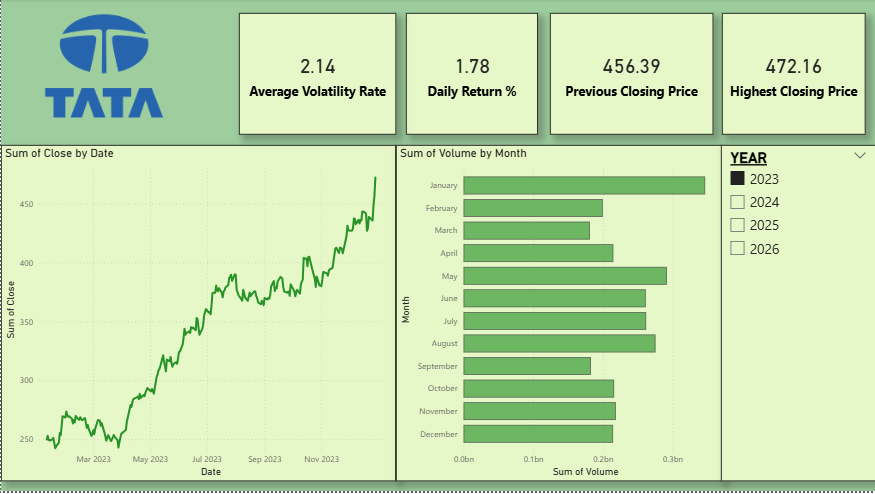

The page's visual inventory and layout, read from the dashboard file:
{"tool":"powerbi","page":{"name":"Page 1","canvas":[1280,720],"ordinal":0},"visuals":[{"type":"card","fields":{"Values":["Calculations.Previous Closing Price"]},"box":[802.9,20.2,238.5,178.1],"z":0},{"type":"card","fields":{"Values":["Calculations.Highest Closing Price"]},"box":[1054.9,20.2,210,178.1],"z":1000},{"type":"card","fields":{"Values":["Calculations.Daily Return %"]},"box":[593,20.2,193.2,178.1],"z":2000},{"type":"lineChart","fields":{"Y":["Sum(Sheet1.Close)"],"Category":["Sheet1.Date"]},"box":[0,213.3,577.8,492.2],"z":3000},{"type":"clusteredBarChart","fields":{"Category":["Sheet1.Date.Variation.Date Hierarchy.Month"],"Y":["Sum(Sheet1.Volume)"]},"box":[577.8,213.3,477.1,492.2],"z":4000},{"type":"slicer","fields":{"Values":["Sheet1.Date.Variation.Date Hierarchy.Year"]},"box":[1053.2,213.3,226.8,492.2],"z":5000},{"type":"card","fields":{"Values":["Calculations.Average Volatility Rate"]},"box":[347.7,20.2,230.1,178.1],"z":6000},{"type":"image","box":[0,0,300.7,198.2],"z":7000}]}

Visuals, with their boxes in screenshot pixels (x1, y1, x2, y2), scaled from the page's 1280x720 canvas onto the 875x494 screenshot:
card - Calculations.Previous Closing Price: bbox=(549, 14, 712, 136)
card - Calculations.Highest Closing Price: bbox=(721, 14, 865, 136)
card - Calculations.Daily Return %: bbox=(405, 14, 537, 136)
lineChart - Sum(Sheet1.Close) x Sheet1.Date: bbox=(0, 146, 395, 484)
clusteredBarChart - Sheet1.Date.Variation.Date Hierarchy.Month x Sum(Sheet1.Volume): bbox=(395, 146, 721, 484)
slicer - Sheet1.Date.Variation.Date Hierarchy.Year: bbox=(720, 146, 874, 484)
card - Calculations.Average Volatility Rate: bbox=(238, 14, 395, 136)
image: bbox=(0, 0, 206, 136)
